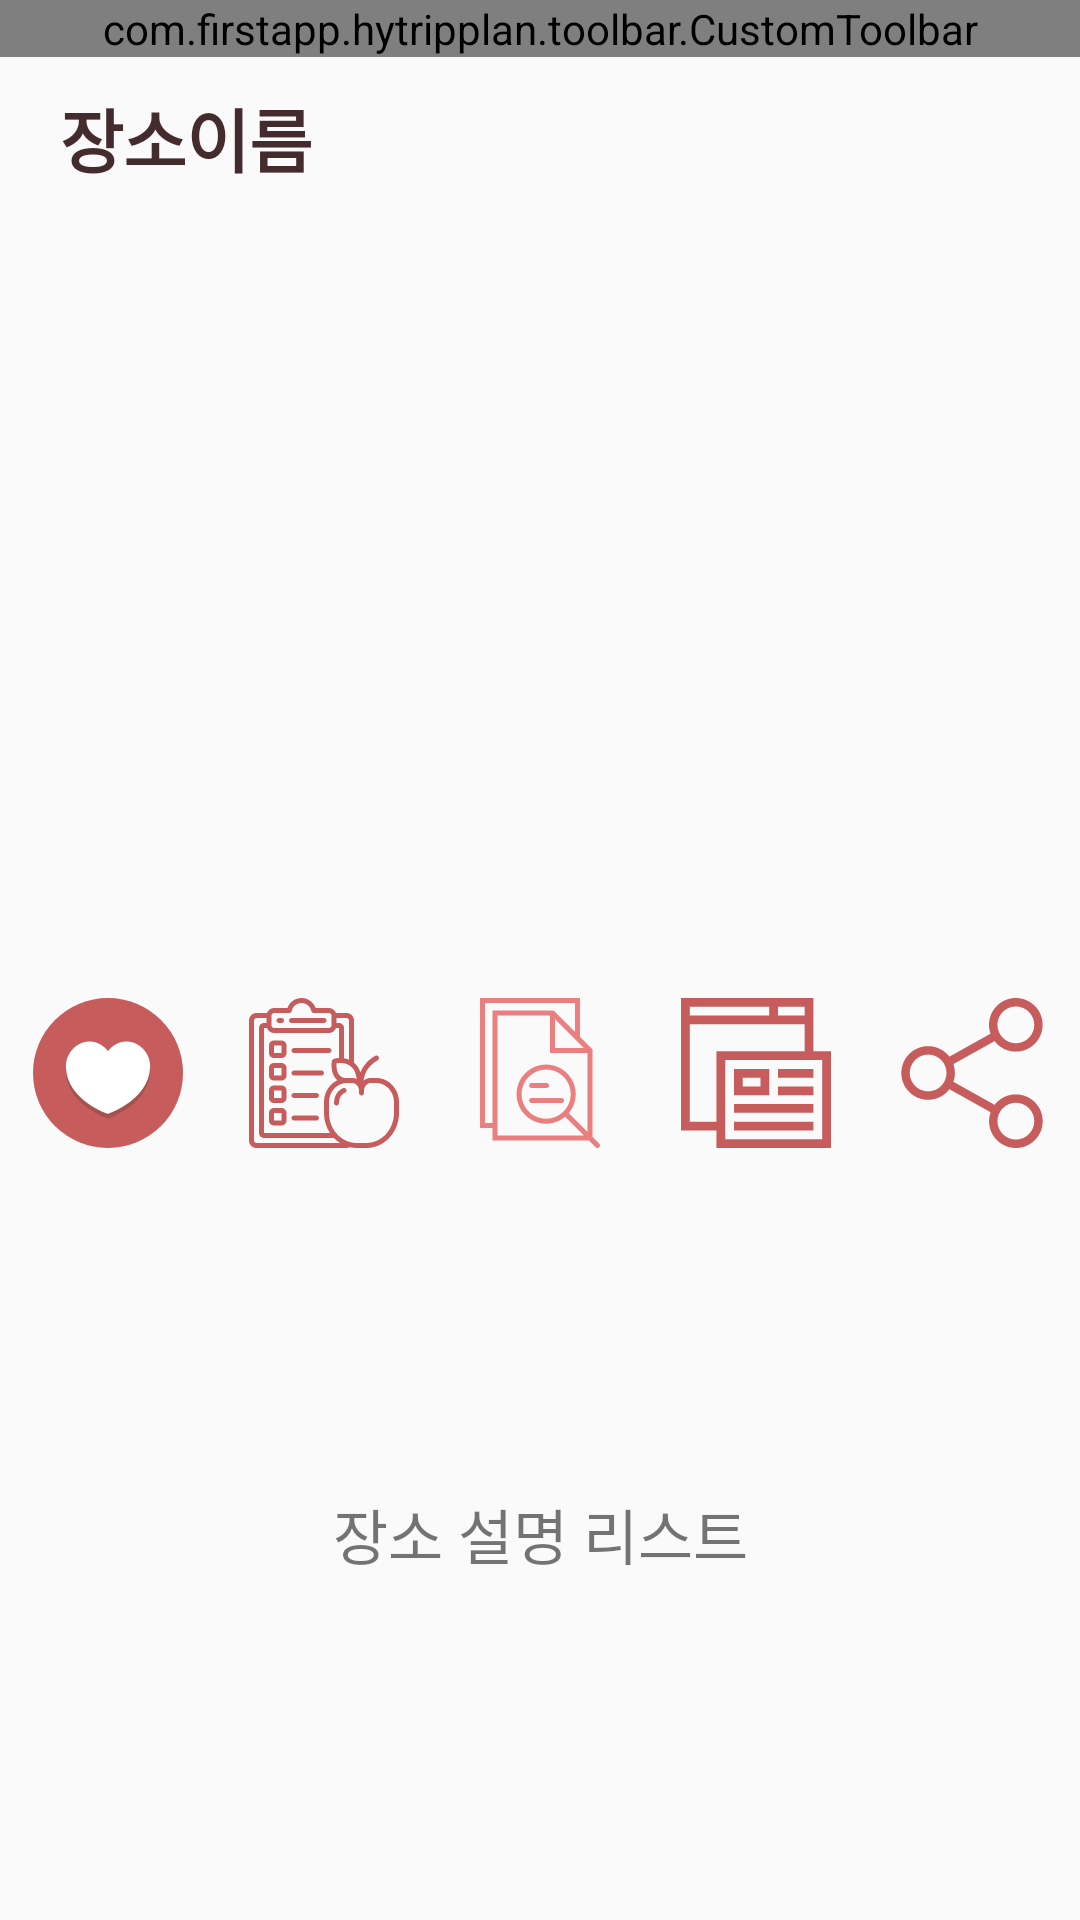

Point at icon controls on the screen. Image size 1080*1920, points as (x=x, y=y).
iconfinder heart: (x=108, y=1073)
share: (x=972, y=1073)
